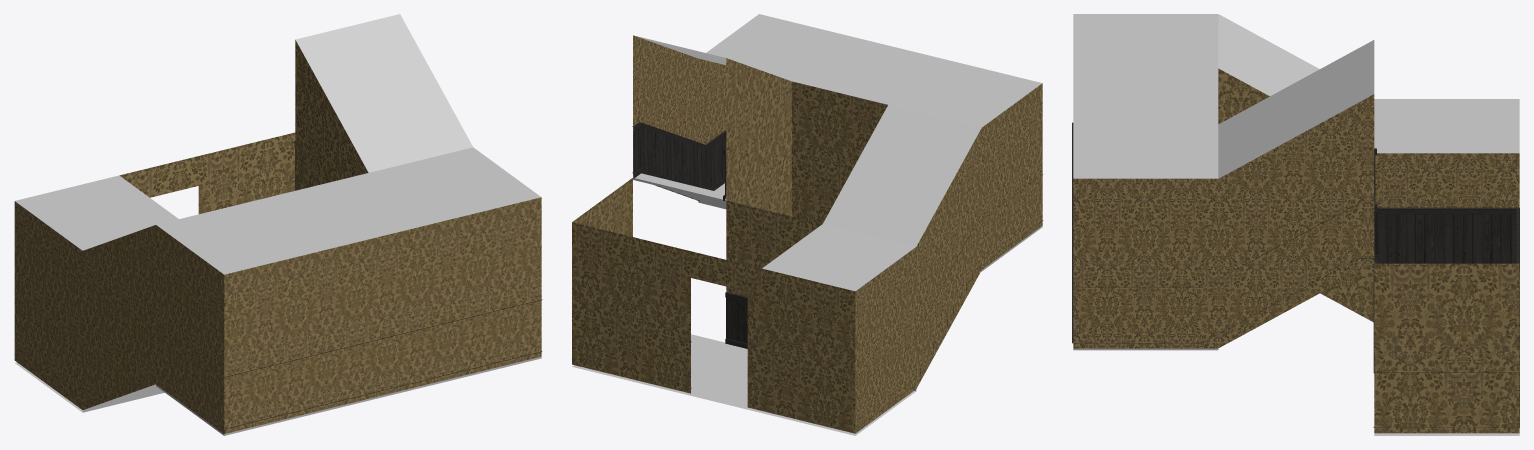
The model's file is Lobby_StairsMid.fbx.
The picture shows the model from 3 angles, left to right: view 1: azimuth 30°, elevation 25°; view 2: azimuth 150°, elevation 25°; view 3: azimuth 270°, elevation 25°; orthographic projection. The views are drawn at different scales.
Visible parts, largest first — view 1: Cube_004_NonePlan_015; view 2: Cube_004_NonePlan_015; view 3: Cube_004_NonePlan_015.
Part boxes in pixels (x1=…): Cube_004_NonePlan_015: x1=14, y1=14, x2=542, y2=435; Cube_004_NonePlan_015: x1=572, y1=14, x2=1043, y2=435; Cube_004_NonePlan_015: x1=1072, y1=14, x2=1519, y2=435.
Size of the model in its own units: 25.1 by 24.19 by 28.7.
